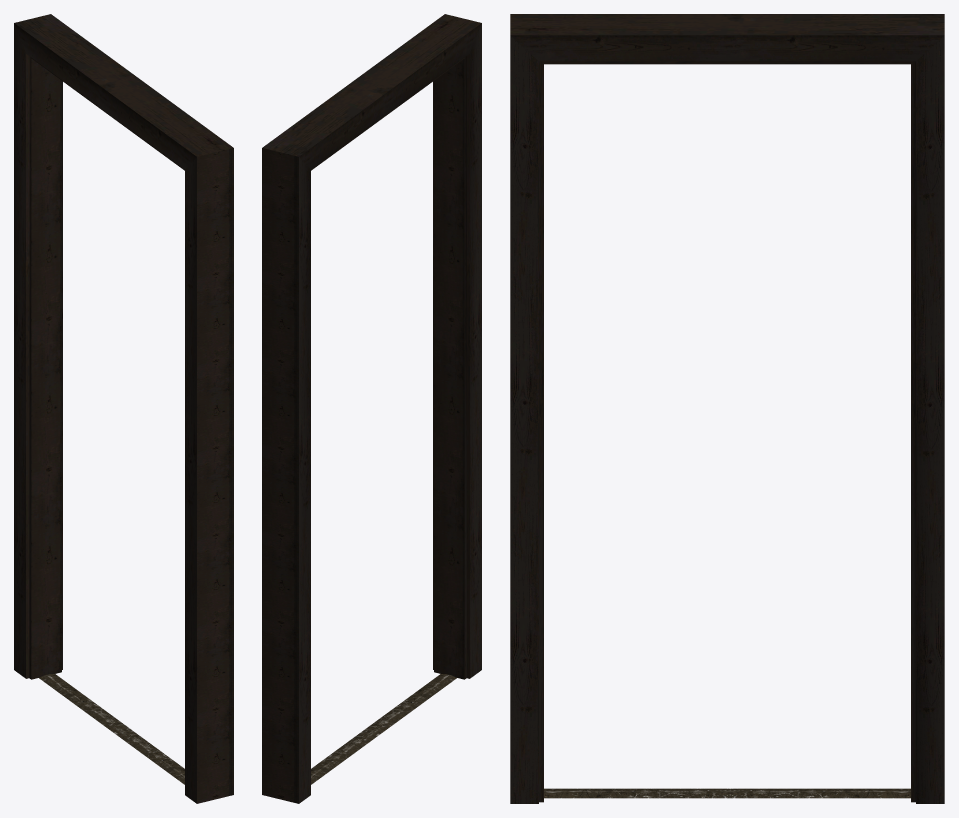
File: Prop_Doorcase.fbx
3 views of the same model, side by side, from view 1: azimuth 30°, elevation 25°; view 2: azimuth 150°, elevation 25°; view 3: azimuth 270°, elevation 25° (orthographic). The views are drawn at different scales.
Parts seen in each view (by area): view 1: Cube_072; view 2: Cube_072; view 3: Cube_072.
Part boxes in pixels (x1,y1,x2,y2): Cube_072: (14,14,233,803); Cube_072: (262,14,481,803); Cube_072: (510,14,944,803).
Bounding box in the file's own units: 0.6 × 10.05 × 5.15.
